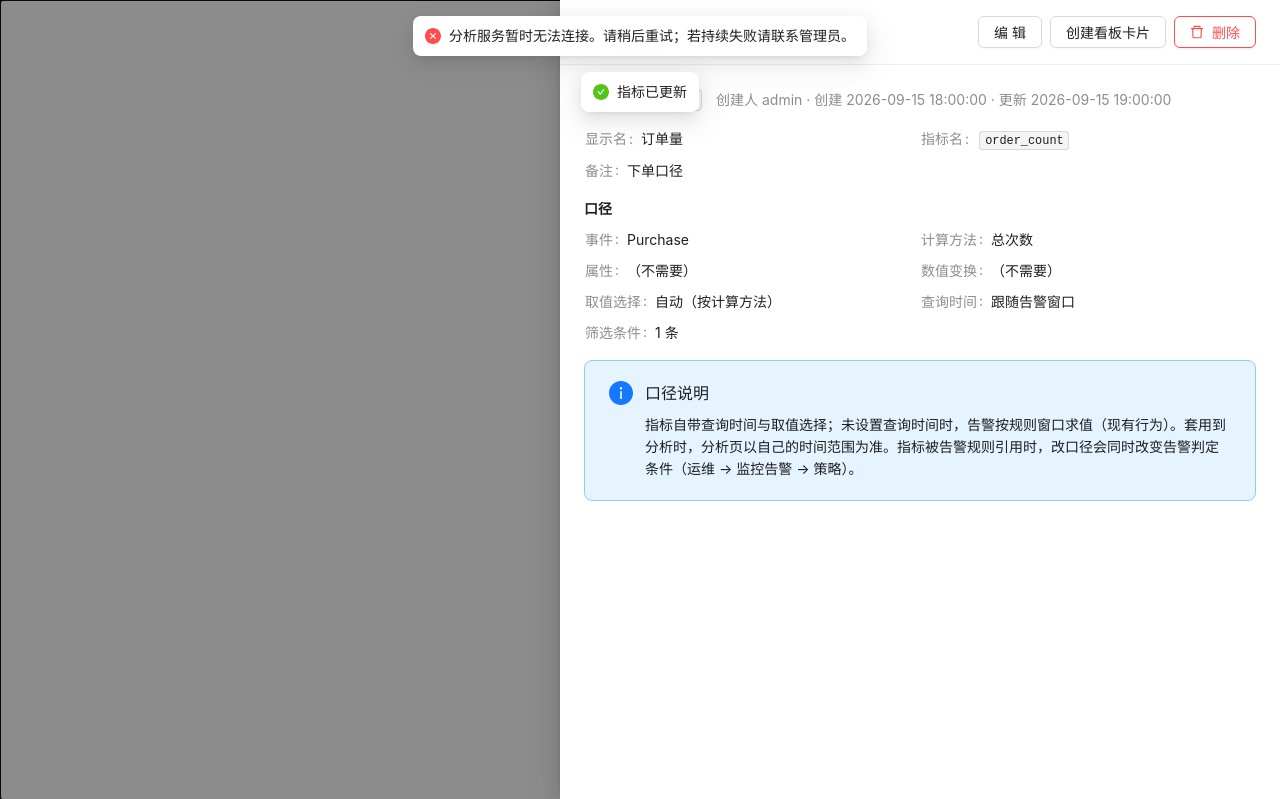
Test: 指标详情 · 编辑 › 保存失败（后端 400）就地显示原因
This screenshot has width=1280, height=799.
# antd 会在两个汉字的按钮文案中插入空格（“编 辑”），故用正则匹配
Click the button "编 辑".
click(1010, 32)  # box x1=978 y1=16 x2=1042 y2=48
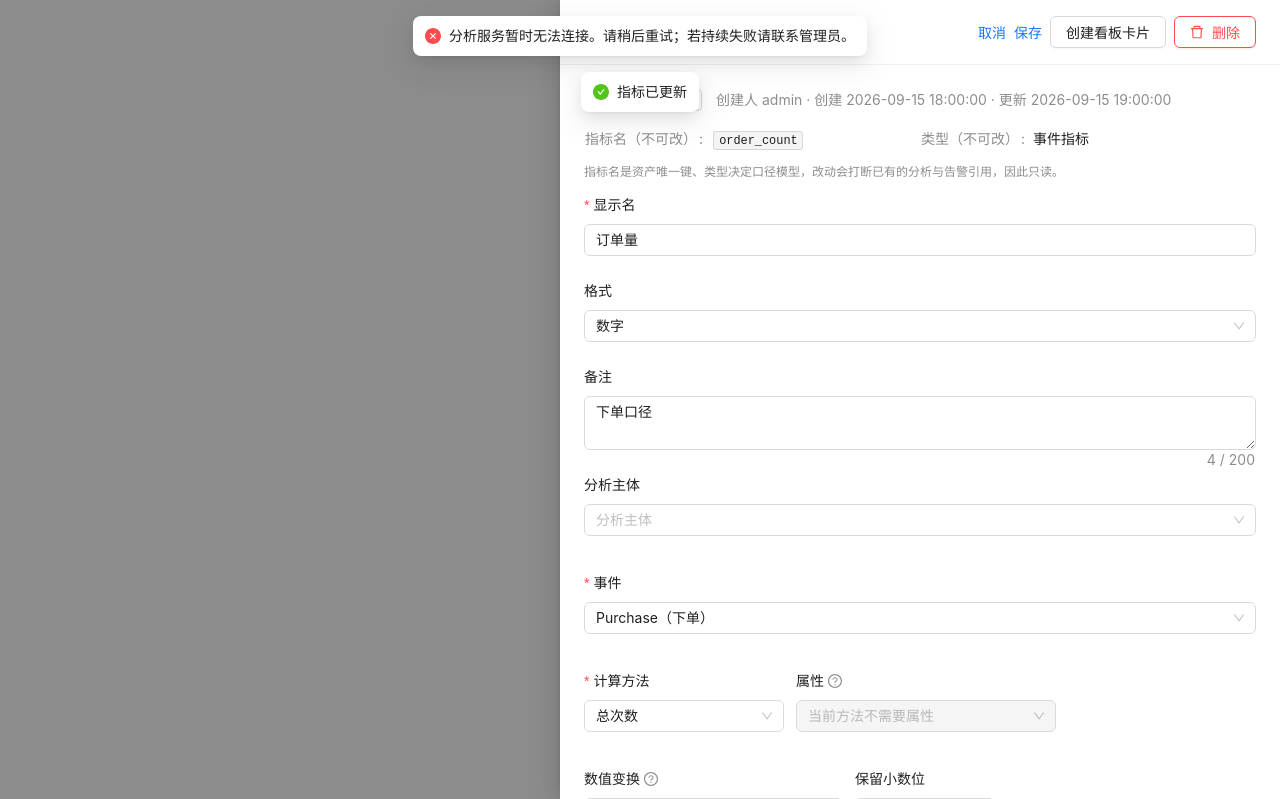
# 保存/取消沿用仓库抽屉惯例（Typography.Link），不是 Button
Click the link "保存".
click(1028, 32)  # box x1=1014 y1=24 x2=1042 y2=41
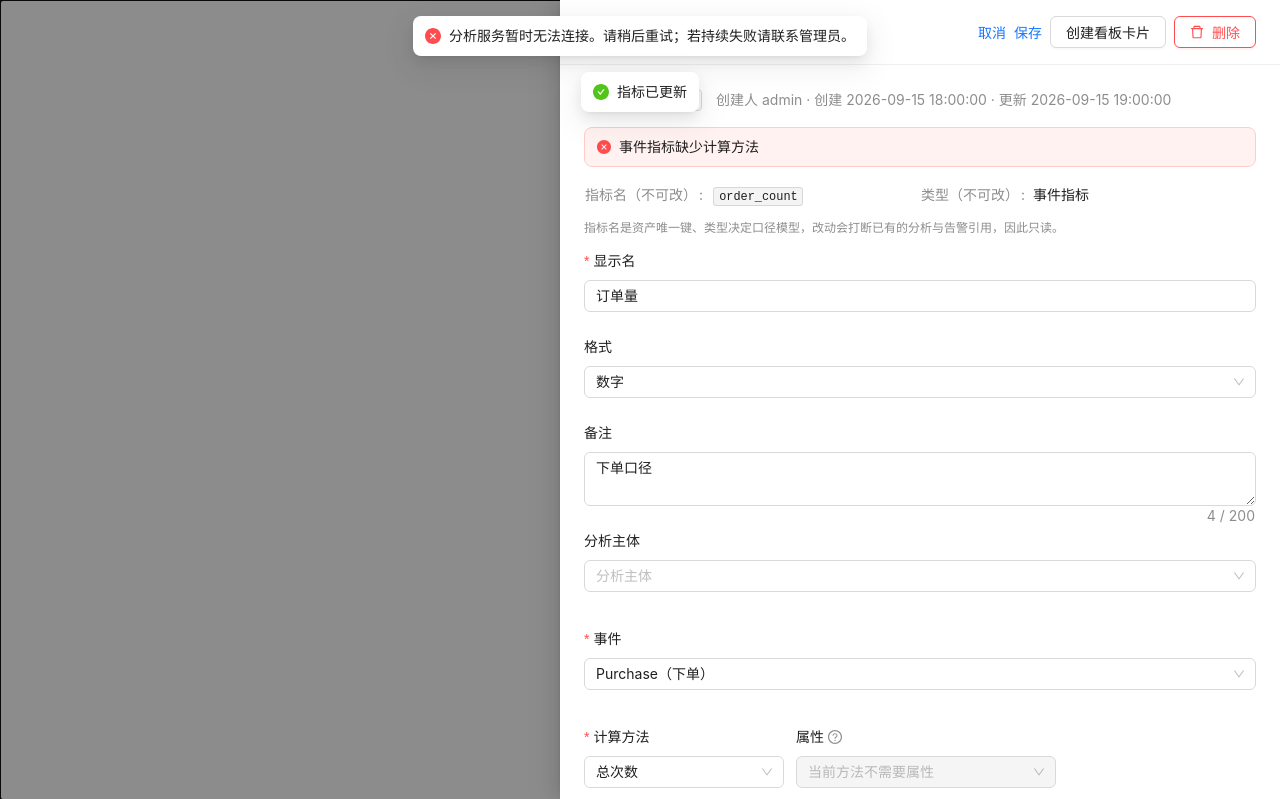
Result: the text "事件指标缺少计算方法" is shown at x1=619 y1=138 x2=759 y2=155
